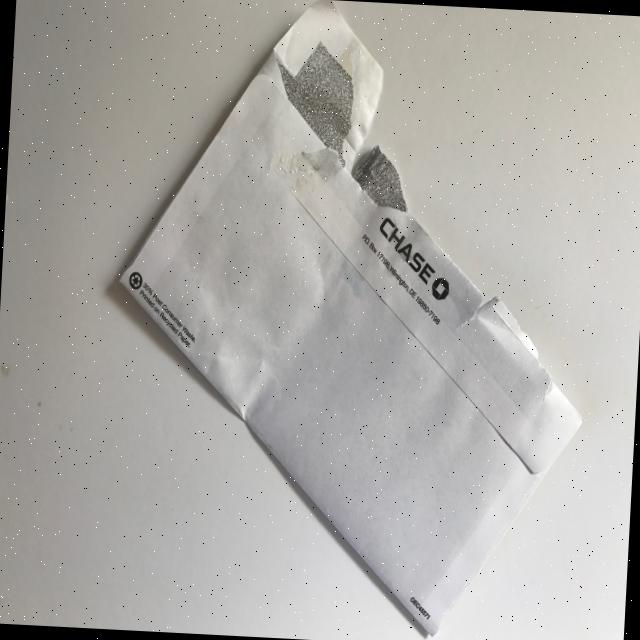paper: (100, 0, 604, 640)
